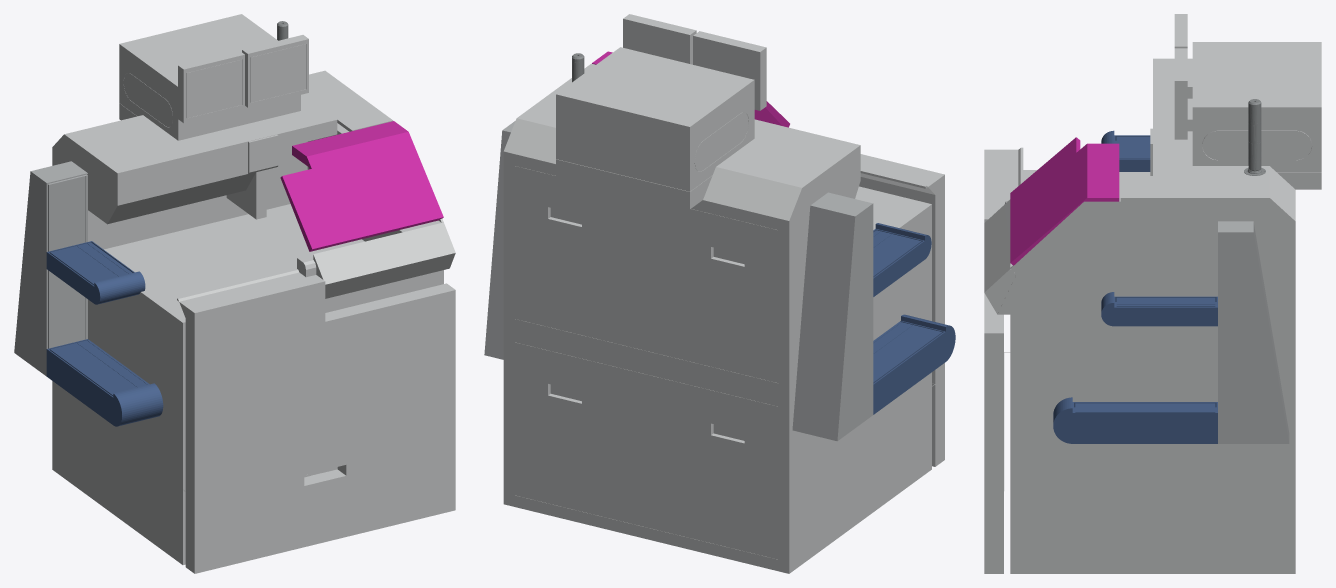
Rendered from diebond.glb.
The picture shows the model from 3 angles, left to right: view 1: azimuth 30°, elevation 25°; view 2: azimuth 150°, elevation 25°; view 3: azimuth 270°, elevation 25°; orthographic projection. The views are drawn at different scales.
Parts seen in each view (by area): view 1: Mesh_Mesh_head_geo.001_lambert2SG.001; view 2: Mesh_Mesh_head_geo.001_lambert2SG.001; view 3: Mesh_Mesh_head_geo.001_lambert2SG.001.
Boxes of the visible parts, <box> form: Mesh_Mesh_head_geo.001_lambert2SG.001: <box>14,14,455,573</box>; Mesh_Mesh_head_geo.001_lambert2SG.001: <box>484,14,955,573</box>; Mesh_Mesh_head_geo.001_lambert2SG.001: <box>984,14,1321,573</box>.
Bounding box in the file's own units: 15.7 × 19.63 × 13.01.
